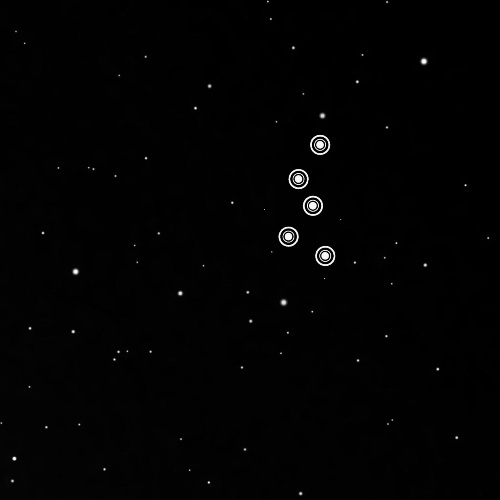cassiopeia: (269, 122, 348, 278)
